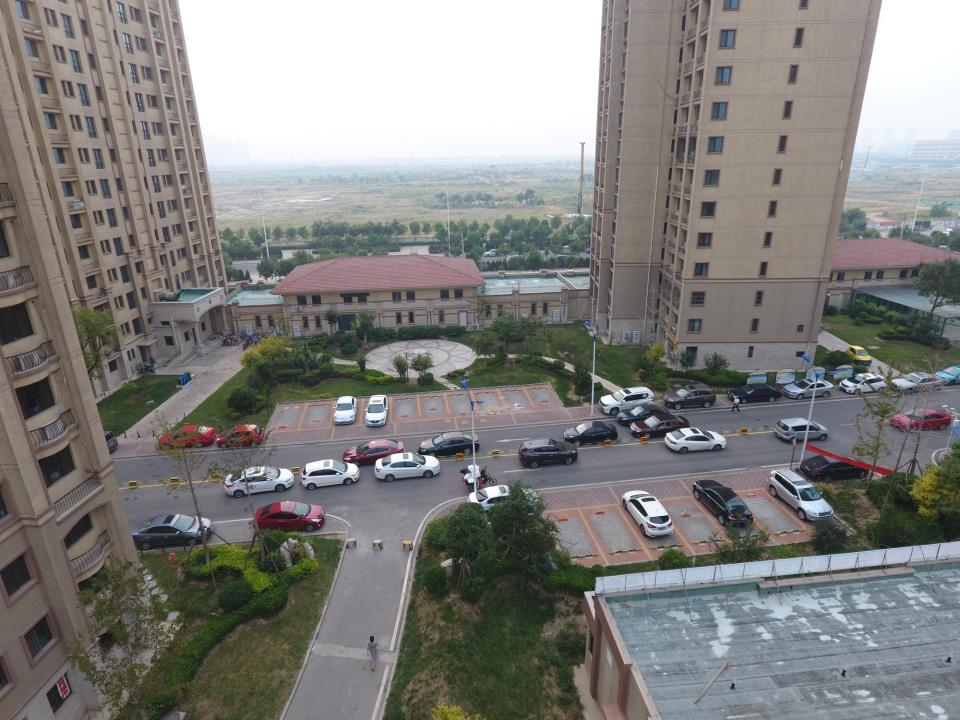car: (767, 468, 834, 521), (131, 514, 213, 550), (693, 479, 753, 526), (252, 500, 326, 534), (621, 491, 674, 537), (467, 485, 539, 517), (224, 466, 294, 498), (799, 452, 870, 483), (374, 452, 440, 482), (342, 439, 405, 468), (518, 438, 578, 468), (301, 459, 359, 489), (418, 431, 480, 458), (664, 427, 726, 454), (599, 386, 654, 416), (629, 414, 690, 439), (774, 417, 829, 444), (890, 408, 951, 432), (158, 425, 216, 450), (563, 420, 618, 446), (663, 384, 716, 409), (616, 404, 670, 427), (890, 372, 944, 394), (728, 383, 783, 404), (216, 424, 264, 448), (782, 378, 834, 400), (839, 373, 887, 395), (332, 395, 358, 424), (364, 395, 388, 426), (934, 365, 960, 386), (845, 346, 872, 365), (553, 255, 576, 264), (585, 246, 606, 253), (483, 249, 501, 257), (914, 234, 930, 240), (940, 240, 949, 250)
van: (74, 430, 118, 457), (506, 254, 525, 265), (558, 246, 578, 255)
